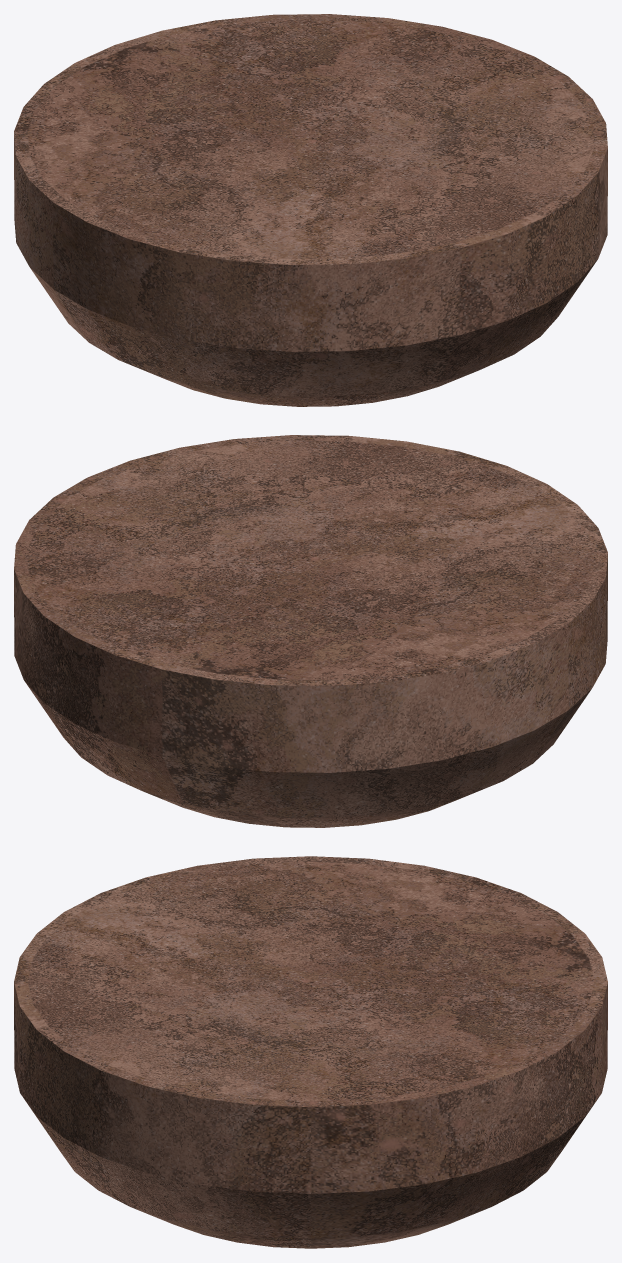
Rendered from MainArena.fbx.
3 renders of one model, top to bottom at view 1: azimuth 30°, elevation 25°; view 2: azimuth 150°, elevation 25°; view 3: azimuth 270°, elevation 25°, orthographic.
Parts seen in each view (by area): view 1: Fight 7 Arena (vs Suki); view 2: Fight 7 Arena (vs Suki); view 3: Fight 7 Arena (vs Suki).
Part boxes in pixels (x1,y1,x2,y2): Fight 7 Arena (vs Suki): (14, 14, 607, 406); Fight 7 Arena (vs Suki): (14, 435, 607, 827); Fight 7 Arena (vs Suki): (14, 856, 607, 1248).
Size of the model in its own units: 10000 by 4457 by 10000.
Materials: 1 (1 with a texture image).
